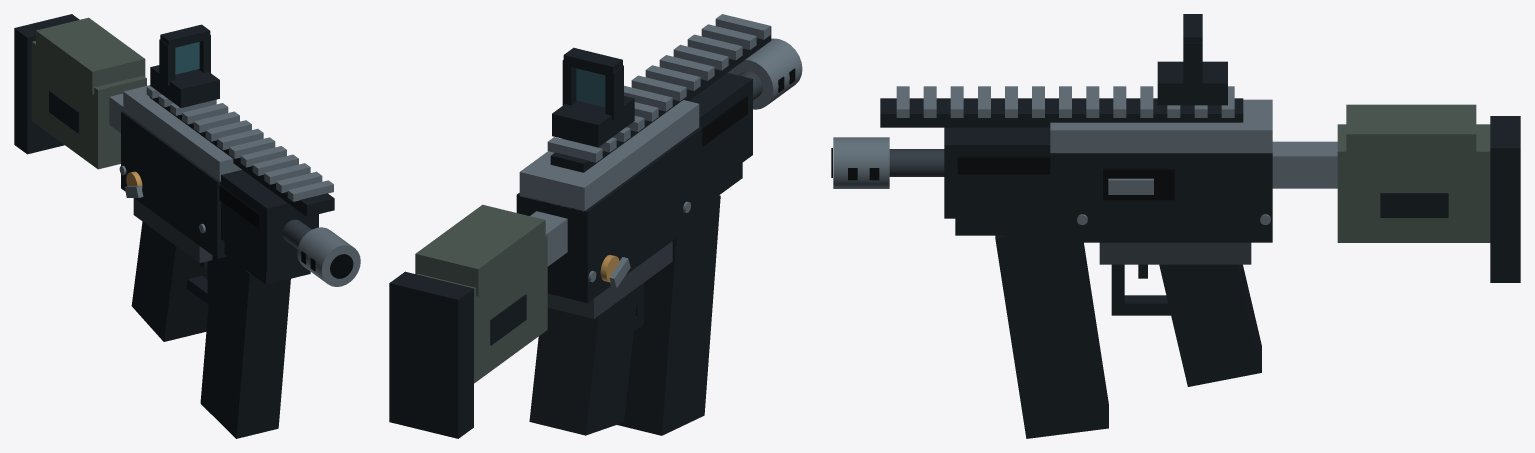
The model's file is FSA_WPN_SMG_001_Swift.glb.
3 renders of one model, left to right at view 1: azimuth 30°, elevation 25°; view 2: azimuth 150°, elevation 25°; view 3: azimuth 270°, elevation 25°, orthographic. The views are drawn at different scales.
Visible parts, largest first — view 1: MagazineBody, Receiver, StockBody, GripCore, Handguard, StockCheek, UpperReceiver, ButtPad, Muzzle, SightBase, RailBase, LowerReceiver (+20 smaller); view 2: MagazineBody, Receiver, ButtPad, GripCore, StockCheek, UpperReceiver, StockBody, Handguard, SightBase, Muzzle, LowerReceiver, RailBase (+16 smaller); view 3: Receiver, MagazineBody, StockBody, GripCore, Handguard, UpperReceiver, StockCheek, RailBase, ButtPad, LowerReceiver, StockTube, Muzzle (+8 smaller).
Boxes of the visible parts, x1=… form: MagazineBody: x1=200, y1=256, x2=290, y2=438; Receiver: x1=121, y1=111, x2=225, y2=258; StockBody: x1=31, y1=41, x2=146, y2=169; GripCore: x1=131, y1=221, x2=208, y2=341; Handguard: x1=221, y1=170, x2=318, y2=272; StockCheek: x1=36, y1=17, x2=145, y2=94; UpperReceiver: x1=123, y1=85, x2=241, y2=181; ButtPad: x1=14, y1=14, x2=79, y2=154; Muzzle: x1=297, y1=227, x2=360, y2=286; SightBase: x1=150, y1=65, x2=219, y2=107; RailBase: x1=149, y1=97, x2=334, y2=216; LowerReceiver: x1=133, y1=198, x2=212, y2=263; MagazineBody: x1=617, y1=195, x2=720, y2=435; Receiver: x1=516, y1=127, x2=702, y2=302; ButtPad: x1=389, y1=271, x2=473, y2=438; GripCore: x1=529, y1=286, x2=638, y2=435; StockCheek: x1=415, y1=204, x2=545, y2=296; UpperReceiver: x1=519, y1=100, x2=699, y2=211; StockBody: x1=417, y1=235, x2=547, y2=383; Handguard: x1=689, y1=73, x2=752, y2=191; SightBase: x1=552, y1=96, x2=634, y2=147; Muzzle: x1=727, y1=38, x2=802, y2=109; LowerReceiver: x1=547, y1=241, x2=672, y2=318; RailBase: x1=550, y1=26, x2=771, y2=172; Receiver: x1=1050, y1=153, x2=1272, y2=242; MagazineBody: x1=995, y1=235, x2=1108, y2=438; StockBody: x1=1337, y1=124, x2=1490, y2=242; GripCore: x1=1159, y1=264, x2=1261, y2=386; Handguard: x1=944, y1=127, x2=1050, y2=218; UpperReceiver: x1=1050, y1=99, x2=1272, y2=152; StockCheek: x1=1346, y1=104, x2=1476, y2=160; RailBase: x1=880, y1=98, x2=1243, y2=127; ButtPad: x1=1490, y1=116, x2=1520, y2=282; LowerReceiver: x1=1099, y1=242, x2=1251, y2=264; StockTube: x1=1272, y1=141, x2=1337, y2=188; Muzzle: x1=833, y1=137, x2=889, y2=188.
Size of the model in its own units: 0.091 by 0.4089 by 0.6363.
